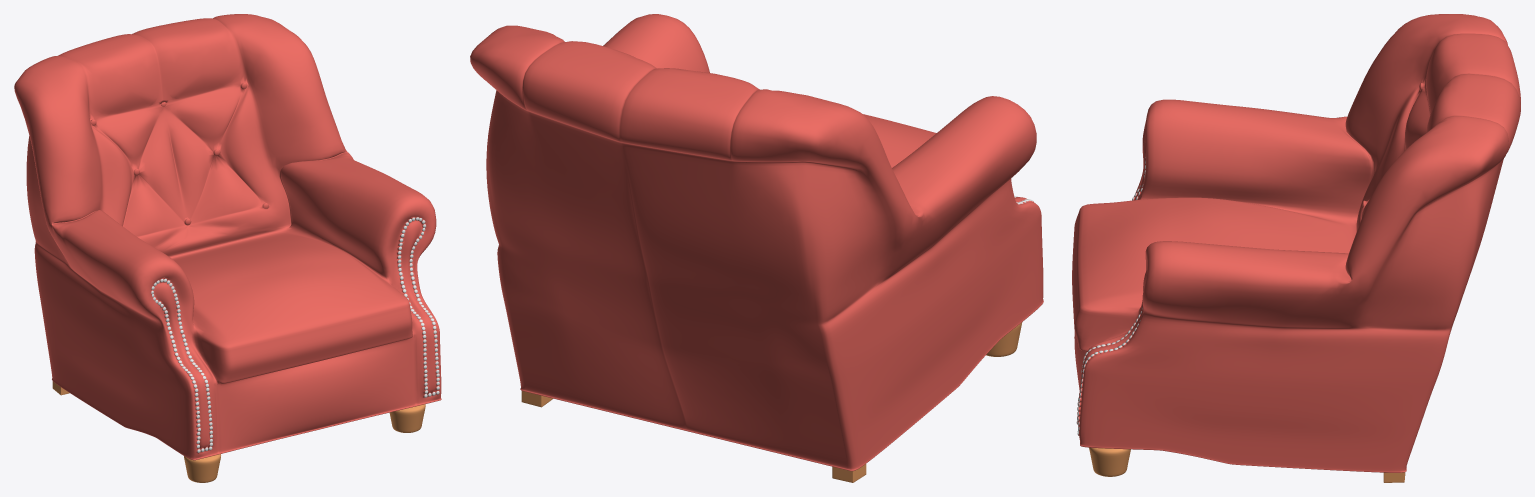
The model's file is sillonretro.fbx.
3 renders of one model, left to right at view 1: azimuth 30°, elevation 25°; view 2: azimuth 150°, elevation 25°; view 3: azimuth 270°, elevation 25°, orthographic. The views are drawn at different scales.
Parts seen in each view (by area): view 1: Chair; view 2: Chair; view 3: Chair.
Part boxes in pixels (<box>): Chair: <box>14,14,441,482</box>; Chair: <box>470,14,1043,482</box>; Chair: <box>1072,14,1520,482</box>.
Bounding box in the file's own units: 2007 × 1892 × 2248.
